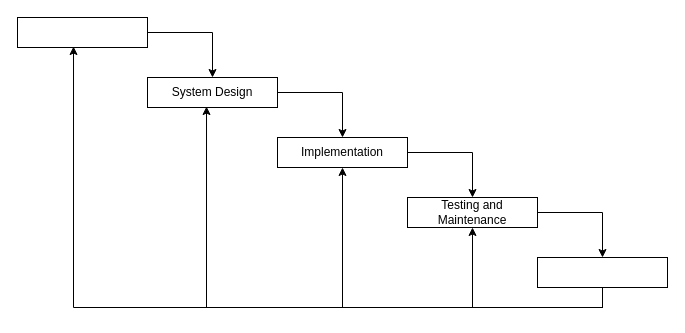
The diagram is 685 pixels wide and 333 high, and some of its shapes have lost their labels. The box of each missing label's shape, as (x1, y1, x2, y2) in pixels:
Requirement Analysis: (16, 16, 148, 48)
Submission: (536, 256, 668, 288)
